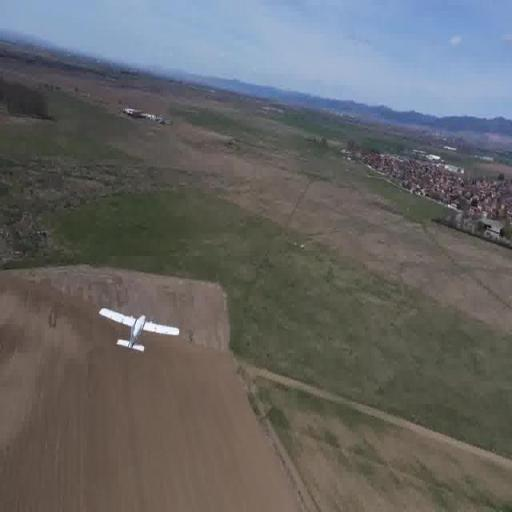uav: (97, 298, 185, 361)
